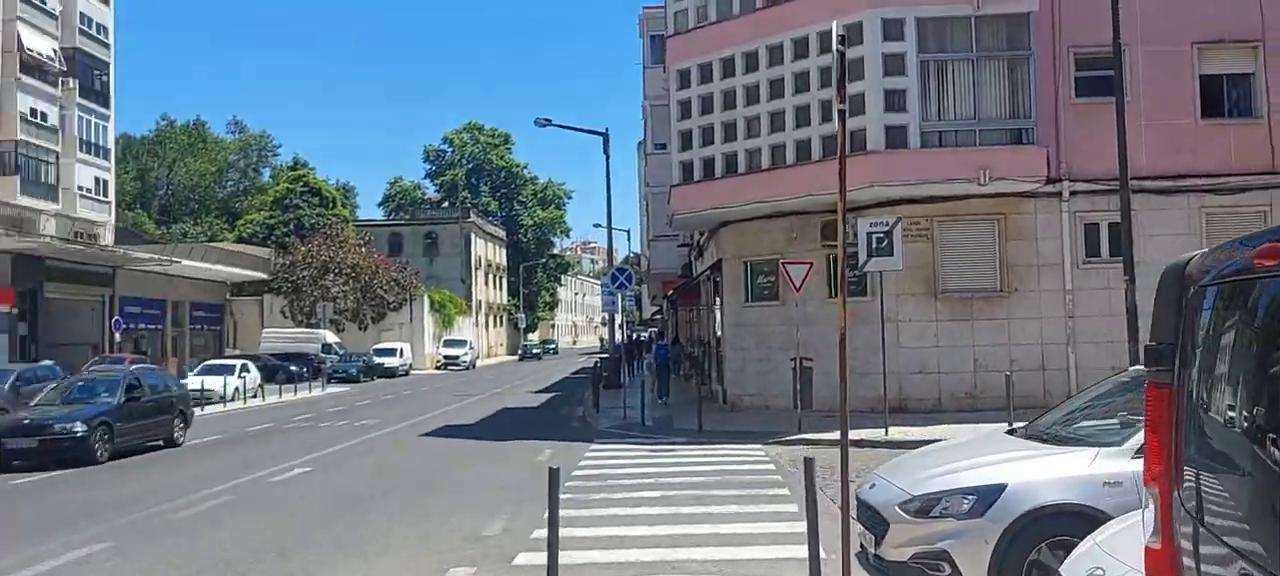cedencia de passagem: (778, 241, 830, 297)
fim de zona de estacionamento autorizado: (855, 213, 905, 274)
